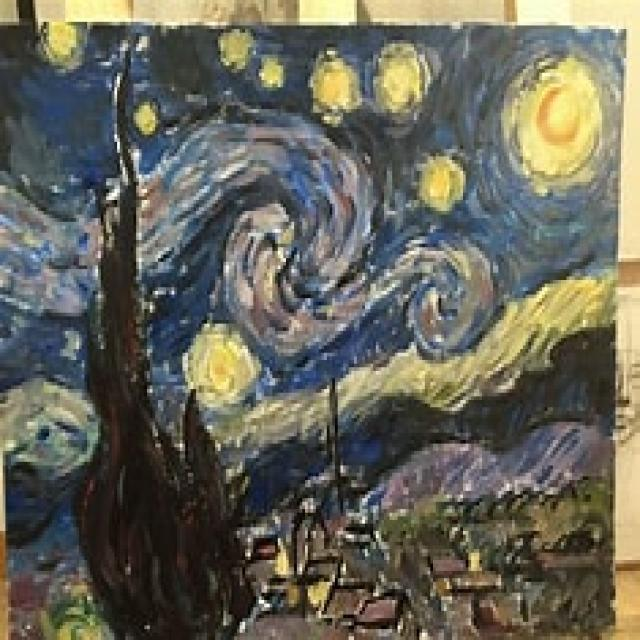starrynight: (4, 26, 619, 631)
